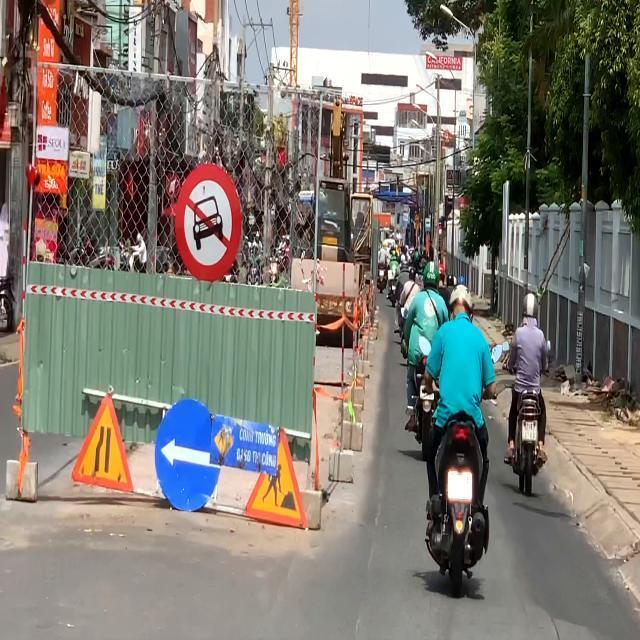103a-cam-oto: (173, 161, 243, 281)
203-duong-bi-hep: (69, 394, 141, 496)
227-cong-truong: (242, 424, 312, 536)
301c-cac-xe-chi-duoc-re-trai: (153, 396, 221, 509)
